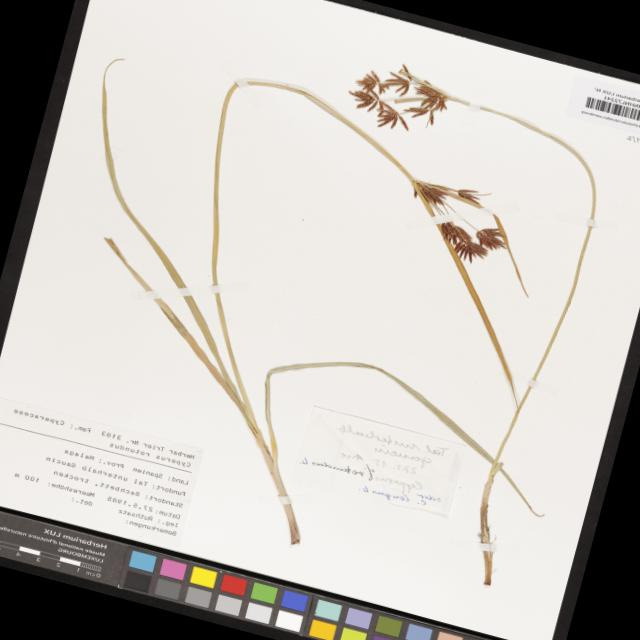cyperus: (344, 48, 466, 147)
